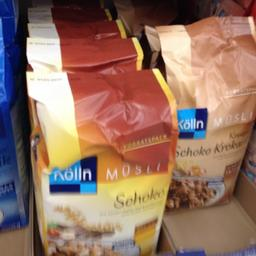cereal: (25, 68, 178, 254), (146, 16, 254, 211)
